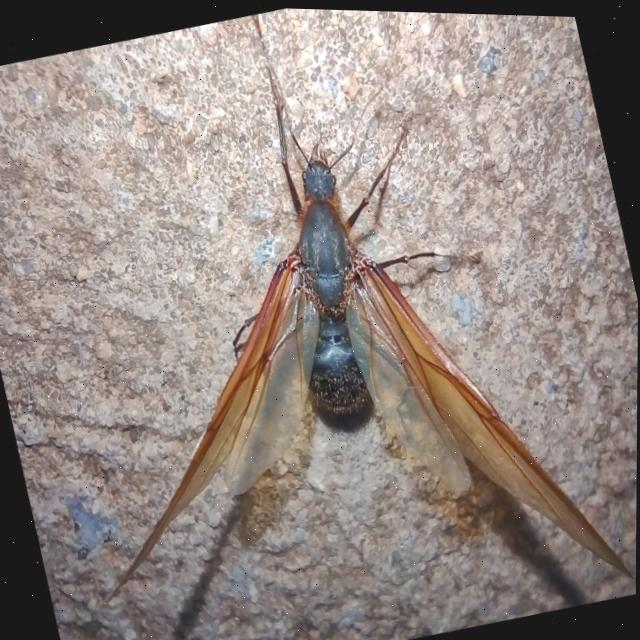Alive-Male-Alate: (0, 2, 640, 640)
